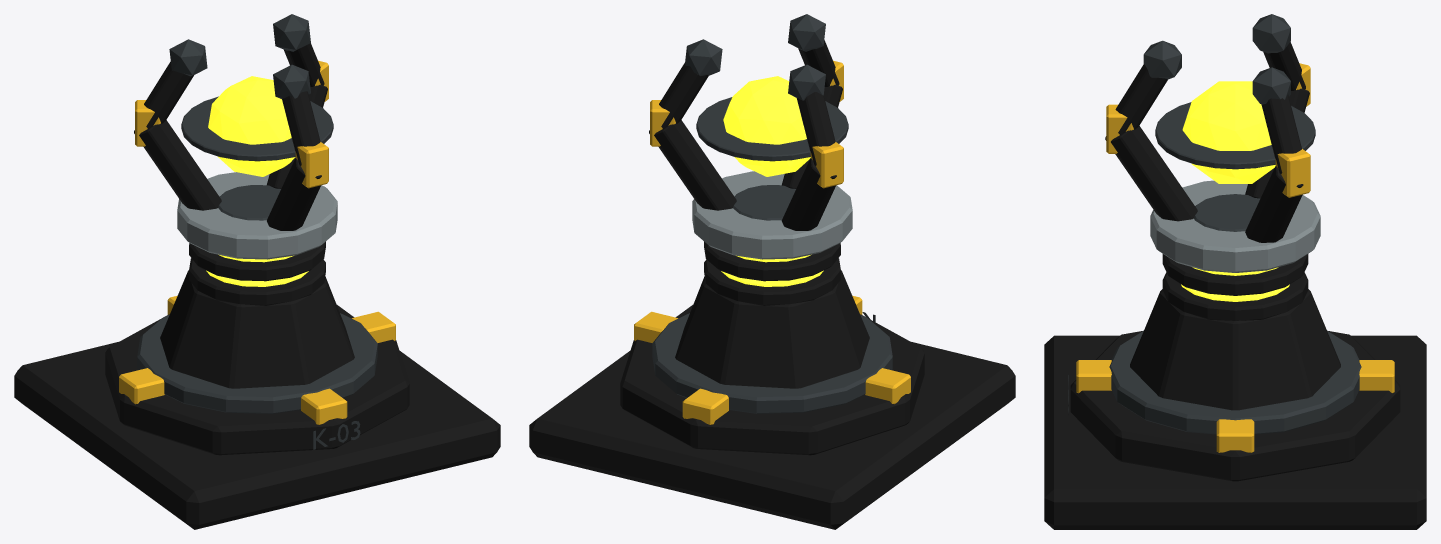
Rendered from tower_chain.glb.
The picture shows the model from 3 angles, left to right: view 1: azimuth 30°, elevation 25°; view 2: azimuth 150°, elevation 25°; view 3: azimuth 270°, elevation 25°; orthographic projection. The views are drawn at different scales.
Parts seen in each view (by area): view 1: Cylinder040_1, Cylinder040_2, Cylinder040, Icosphere009_1, Icosphere009_4, Icosphere009_2, Icosphere009, Icosphere009_3, Cylinder040_3, Icosphere009_5, Cylinder040_4; view 2: Cylinder040_1, Cylinder040_2, Cylinder040, Icosphere009_1, Icosphere009_4, Icosphere009_2, Icosphere009, Icosphere009_3, Cylinder040_3, Icosphere009_5, Cylinder040_4; view 3: Cylinder040_1, Cylinder040_2, Cylinder040, Icosphere009_1, Icosphere009_4, Icosphere009_2, Icosphere009, Icosphere009_3, Cylinder040_3, Icosphere009_5, Cylinder040_4.
Part boxes in pixels (x1,y1,x2,y2): Cylinder040_1: (14,270,500,529); Cylinder040_2: (105,241,409,455); Cylinder040: (137,185,377,449); Icosphere009_1: (177,172,337,259); Icosphere009_4: (169,14,333,161); Icosphere009_2: (134,84,327,230); Icosphere009: (208,76,295,176); Icosphere009_3: (144,43,324,165); Cylinder040_3: (119,295,395,424); Icosphere009_5: (135,60,328,188); Cylinder040_4: (206,254,308,286); Cylinder040_1: (529,270,1015,529); Cylinder040_2: (620,241,924,455); Cylinder040: (652,185,892,413); Icosphere009_1: (692,171,852,259); Icosphere009_4: (685,14,848,161); Icosphere009_2: (649,84,842,230); Icosphere009: (723,76,810,176); Icosphere009_3: (659,40,839,165); Cylinder040_3: (634,295,910,424); Icosphere009_5: (650,60,843,188); Cylinder040_4: (721,254,823,286); Cylinder040_1: (1044,289,1426,529); Cylinder040_2: (1070,254,1400,481); Cylinder040: (1068,194,1361,434); Icosphere009_1: (1150,180,1320,272); Icosphere009_4: (1143,14,1315,169); Icosphere009_2: (1105,88,1309,242); Icosphere009: (1182,81,1275,183); Icosphere009_3: (1115,42,1305,173); Cylinder040_3: (1076,360,1394,452); Icosphere009_5: (1106,63,1310,197); Cylinder040_4: (1181,267,1289,301).
Size of the model in its own units: 1 by 1.19 by 1.
